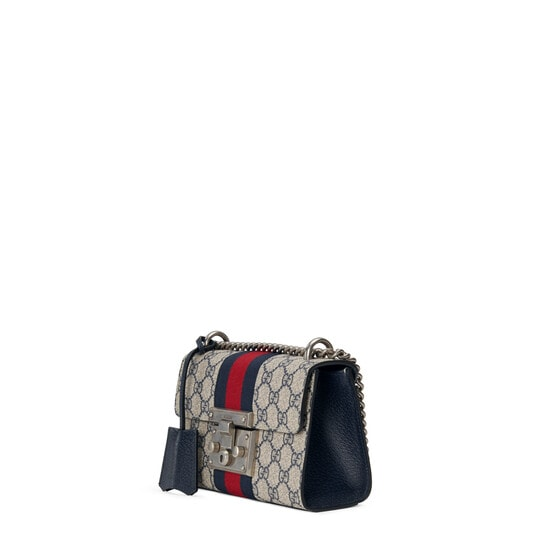Gucci: (132, 294, 389, 507), (214, 349, 269, 494), (262, 368, 311, 491)
